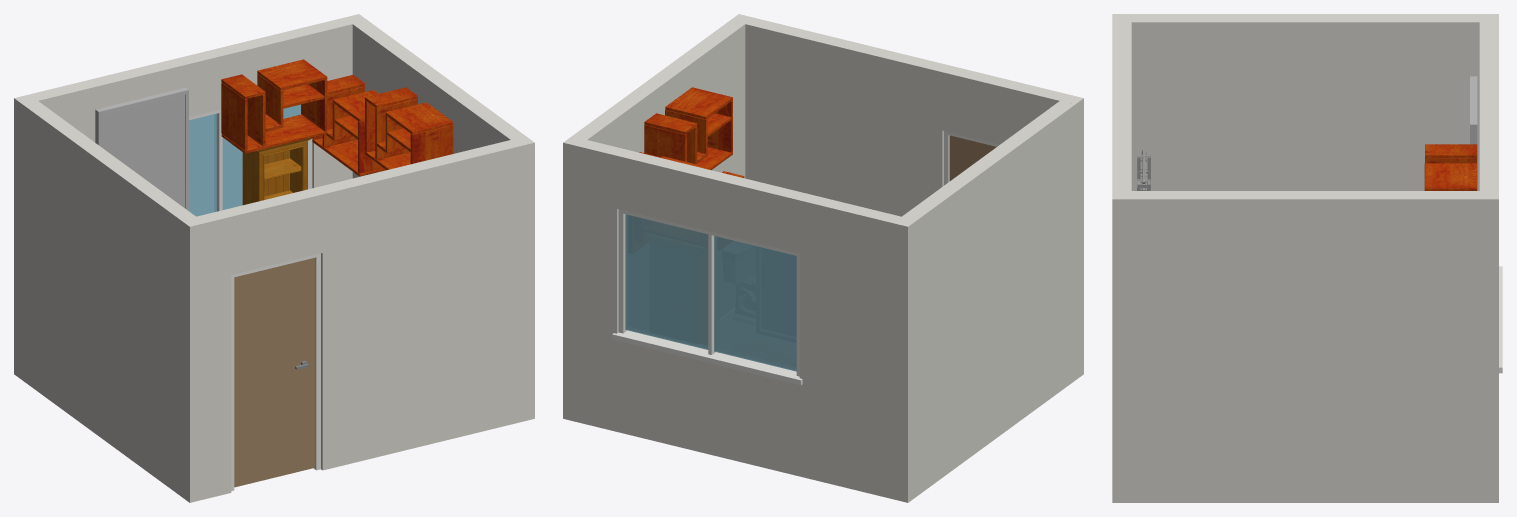
File: holodeck.glb
The picture shows the model from 3 angles, left to right: view 1: azimuth 30°, elevation 25°; view 2: azimuth 150°, elevation 25°; view 3: azimuth 270°, elevation 25°; orthographic projection. The views are drawn at different scales.
Parts seen in each view (by area): view 1: wall|scenesmith_076__R00|0, wall|scenesmith_076__R00|2, scenesmith_076__R00_5, wall|scenesmith_076__R00|0 Door 0 | wood leaf, wall|scenesmith_076__R00|1, wall|scenesmith_076__R00|3, scenesmith_076__R00_4, wall|scenesmith_076__R00|1 Window 0 | glazing, scenesmith_076__R00_2, wall|scenesmith_076__R00|0 Door 0 | jamb, wall|scenesmith_076__R00|1 Window 0 | jamb; view 2: wall|scenesmith_076__R00|1, wall|scenesmith_076__R00|2, wall|scenesmith_076__R00|0, wall|scenesmith_076__R00|1 Window 0 | glazing, wall|scenesmith_076__R00|3, scenesmith_076__R00_5, wall|scenesmith_076__R00|1 Window 0 | jamb, wall|scenesmith_076__R00|0 Door 0 | wood leaf; view 3: wall|scenesmith_076__R00|3, wall|scenesmith_076__R00|2, wall|scenesmith_076__R00|0, wall|scenesmith_076__R00|1, scenesmith_076__R00_5, scenesmith_076__R00_4, scenesmith_076__R00_8.
Part boxes in pixels (x1,y1,x2,y2): wall|scenesmith_076__R00|0: (181,136,534,502); wall|scenesmith_076__R00|2: (23,101,195,502); scenesmith_076__R00_5: (221,59,453,176); wall|scenesmith_076__R00|0 Door 0 | wood leaf: (234,257,314,487); wall|scenesmith_076__R00|1: (14,14,367,380); wall|scenesmith_076__R00|3: (352,20,525,178); scenesmith_076__R00_4: (95,87,188,210); wall|scenesmith_076__R00|1 Window 0 | glazing: (189,104,301,216); scenesmith_076__R00_2: (242,137,311,205); wall|scenesmith_076__R00|0 Door 0 | jamb: (231,253,320,490); wall|scenesmith_076__R00|1 Window 0 | jamb: (189,109,312,211); wall|scenesmith_076__R00|1: (563,136,916,502); wall|scenesmith_076__R00|2: (902,98,1083,495); wall|scenesmith_076__R00|0: (730,14,1083,216); wall|scenesmith_076__R00|1 Window 0 | glazing: (625,214,796,371); wall|scenesmith_076__R00|3: (572,20,745,178); scenesmith_076__R00_5: (639,87,744,177); wall|scenesmith_076__R00|1 Window 0 | jamb: (612,209,802,385); wall|scenesmith_076__R00|0 Door 0 | wood leaf: (949,135,996,180); wall|scenesmith_076__R00|3: (1131,191,1498,502); wall|scenesmith_076__R00|2: (1131,14,1479,190); wall|scenesmith_076__R00|0: (1112,14,1131,502); wall|scenesmith_076__R00|1: (1479,14,1498,199); scenesmith_076__R00_5: (1424,144,1477,190); scenesmith_076__R00_4: (1470,76,1477,144); scenesmith_076__R00_8: (1137,149,1150,190).
Bounding box in the file's own units: 3.4 × 2.61 × 3.03.
Materials: 13 (6 with a texture image).
